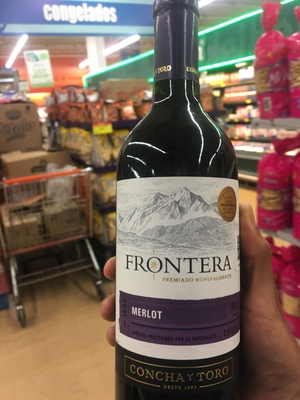frontera merlot: (100, 8, 259, 372)
